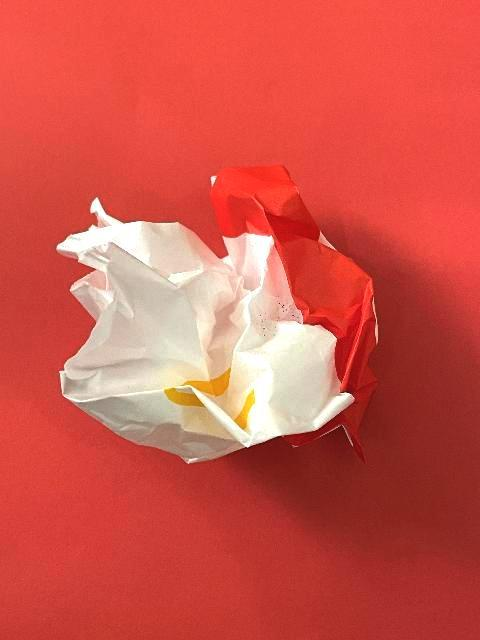paperbag: (57, 164, 381, 466)
